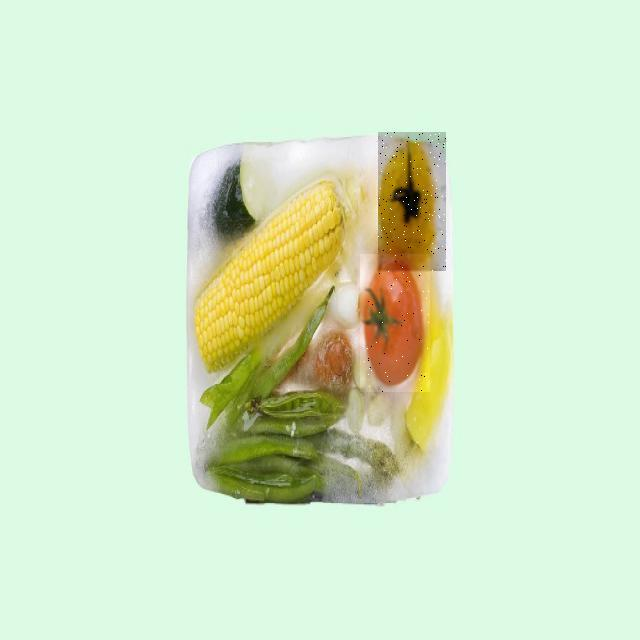tomato: (145, 196, 575, 588), (155, 136, 601, 407)
